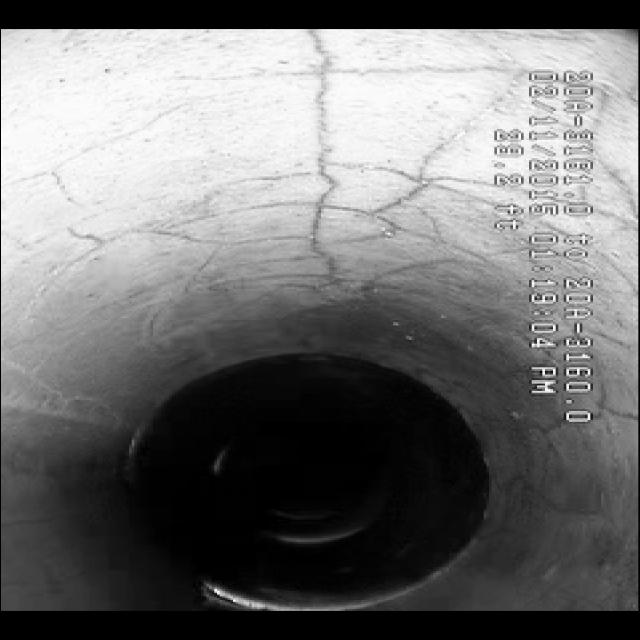Crack: (120, 61, 484, 320)
